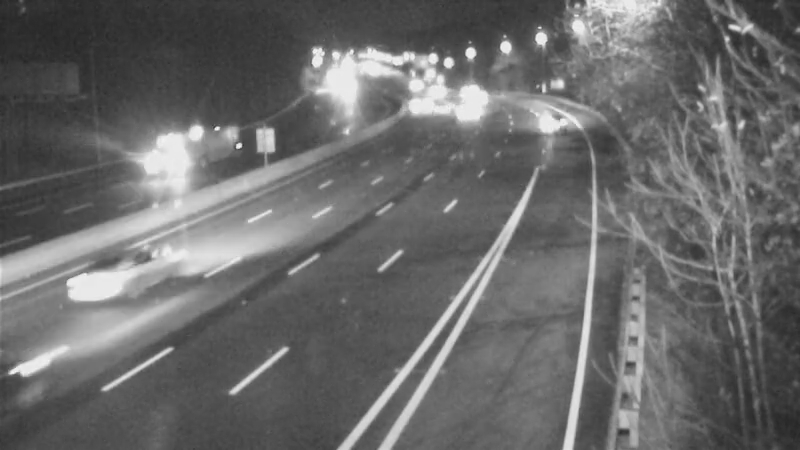vehicle: (55, 248, 135, 328), (121, 119, 201, 199), (439, 62, 489, 112), (408, 66, 458, 116), (450, 73, 500, 123), (393, 81, 443, 131), (411, 83, 461, 133), (441, 87, 491, 137), (529, 101, 579, 151)
